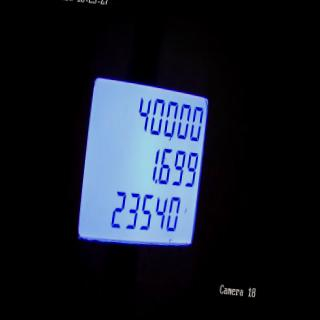screen: (72, 62, 216, 259)
